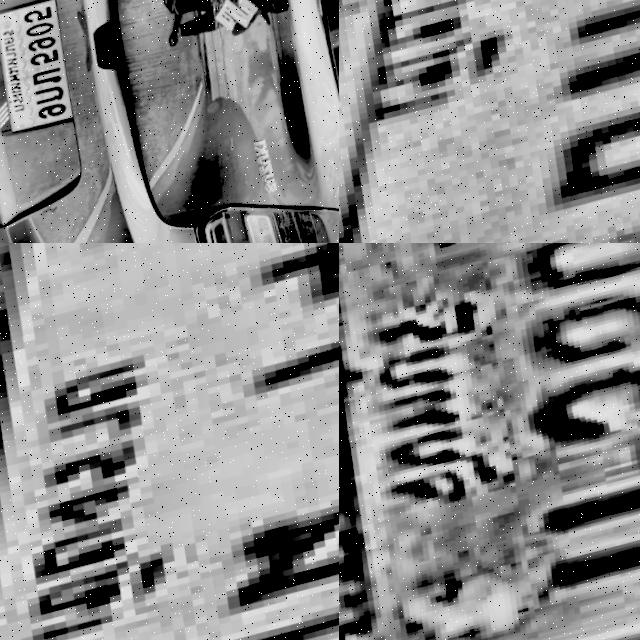license-plate: (0, 243, 339, 640), (339, 243, 640, 640), (339, 0, 640, 243), (0, 0, 91, 143)
